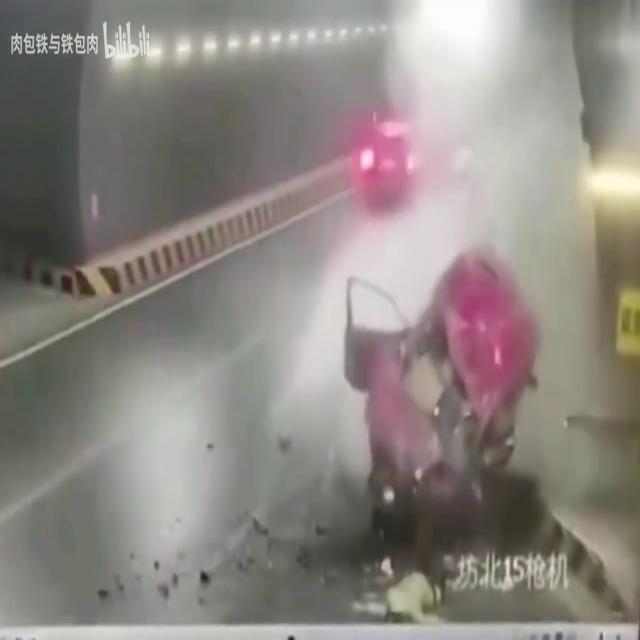accident: (214, 240, 540, 624)
